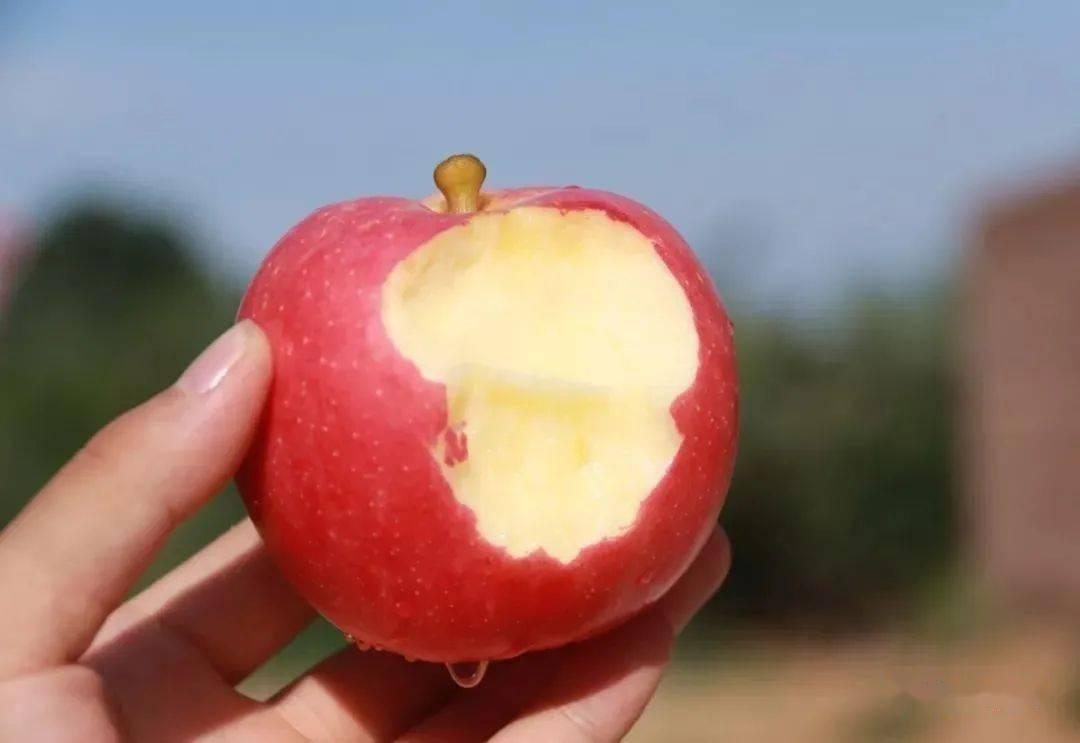apple: (242, 173, 759, 670)
